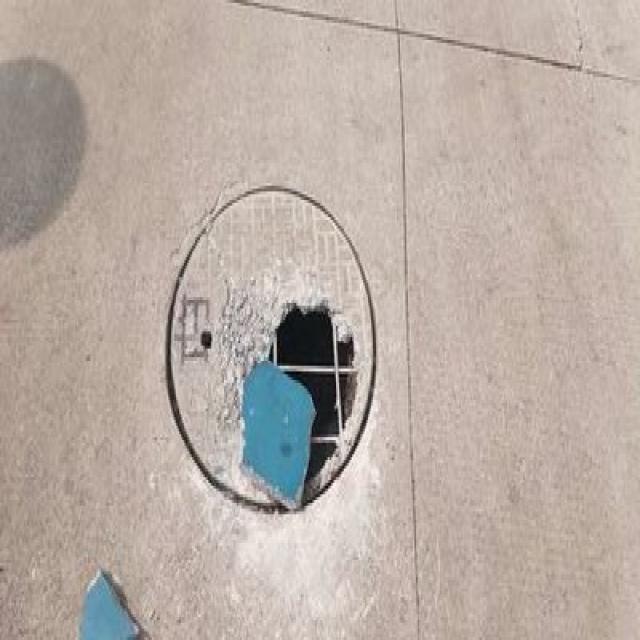manhole: (168, 186, 375, 511)
